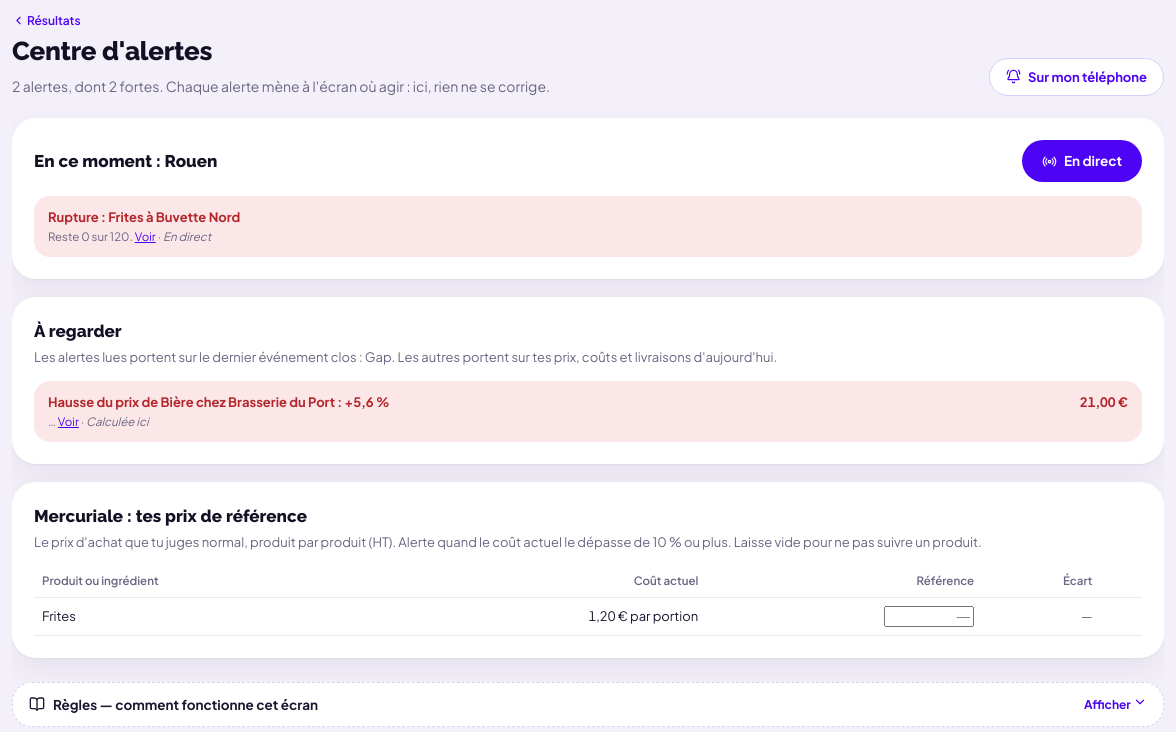
Test case: centre d'alertes › mercuriale : un prix de référence saisi part au serveur en centimes, l'écart s'affiche
The width and height of the screenshot is (1176, 732).
Type "1,00" into the field named "Prix de référence de Frites" at (929, 616), box [884,606,974,627]
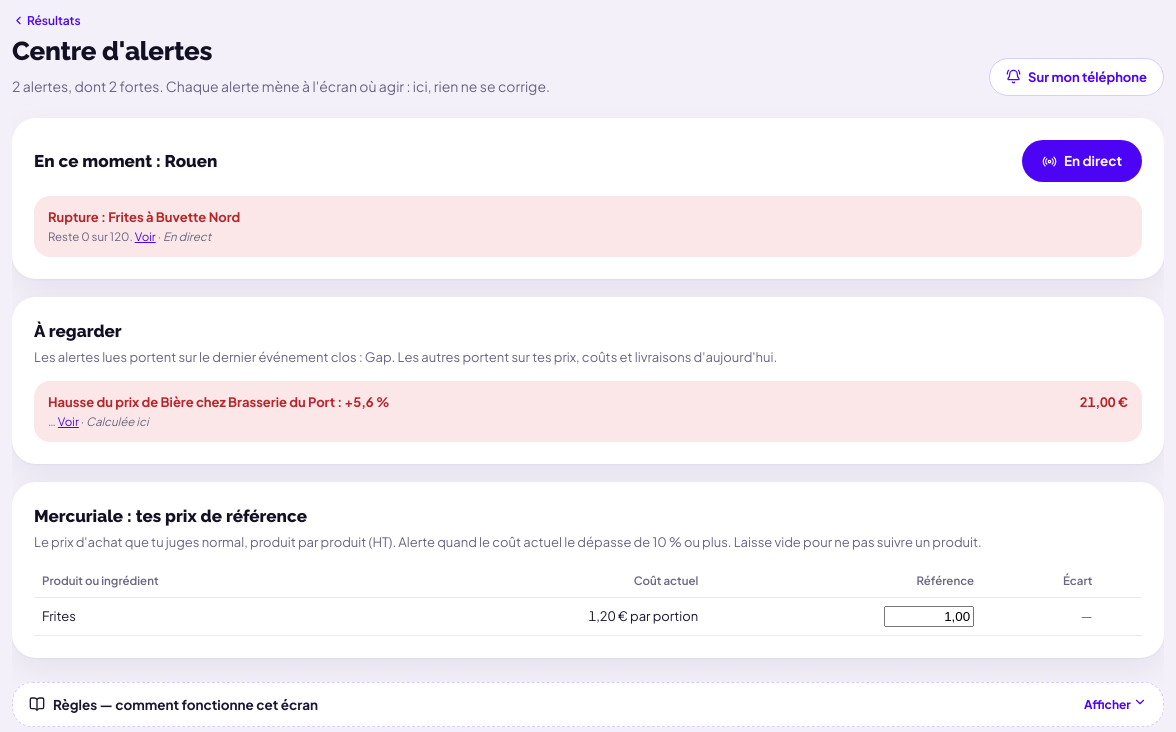
Leave the field named "Prix de référence de Frites", box [884,606,974,627]
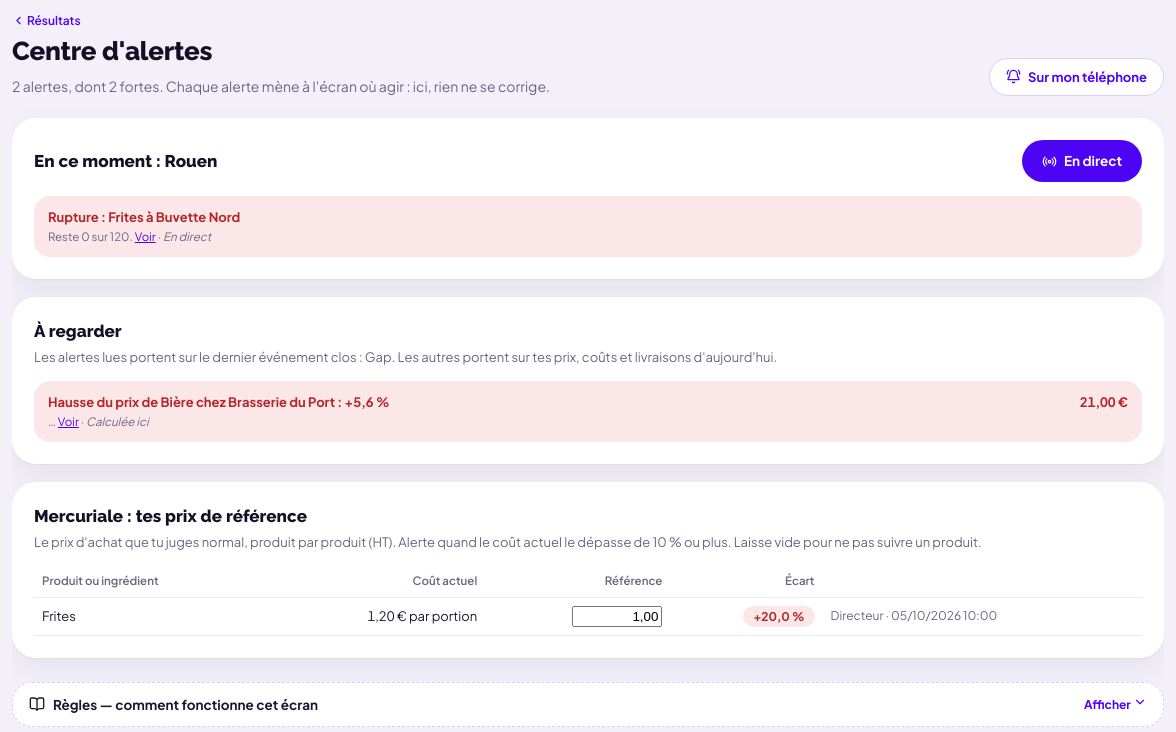
Expected: the text "+20,0 %" is shown, [743,606,814,627]
